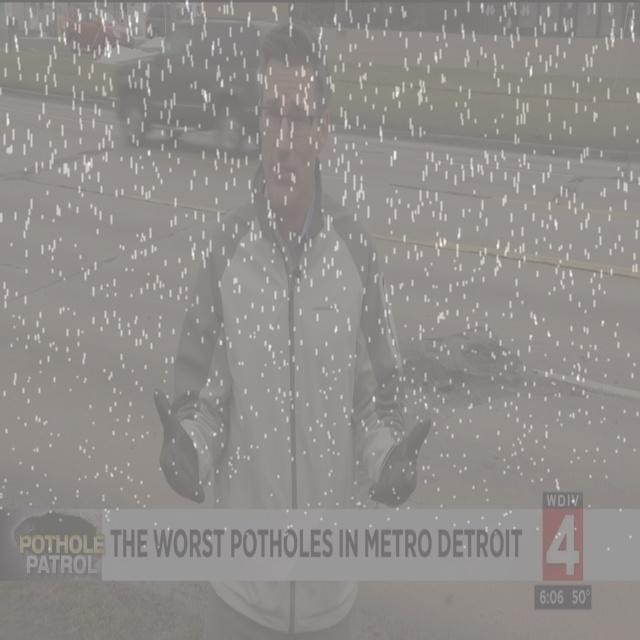Pothole: (406, 322, 555, 413), (549, 172, 602, 222)
